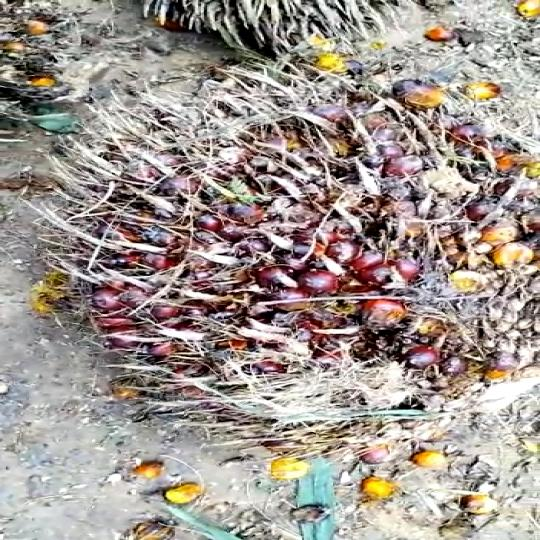masak: (53, 56, 540, 471)
